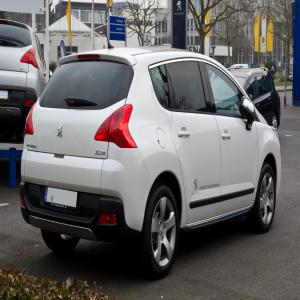Vehicle-registration-plate: (45, 187, 79, 208), (1, 90, 9, 99)
